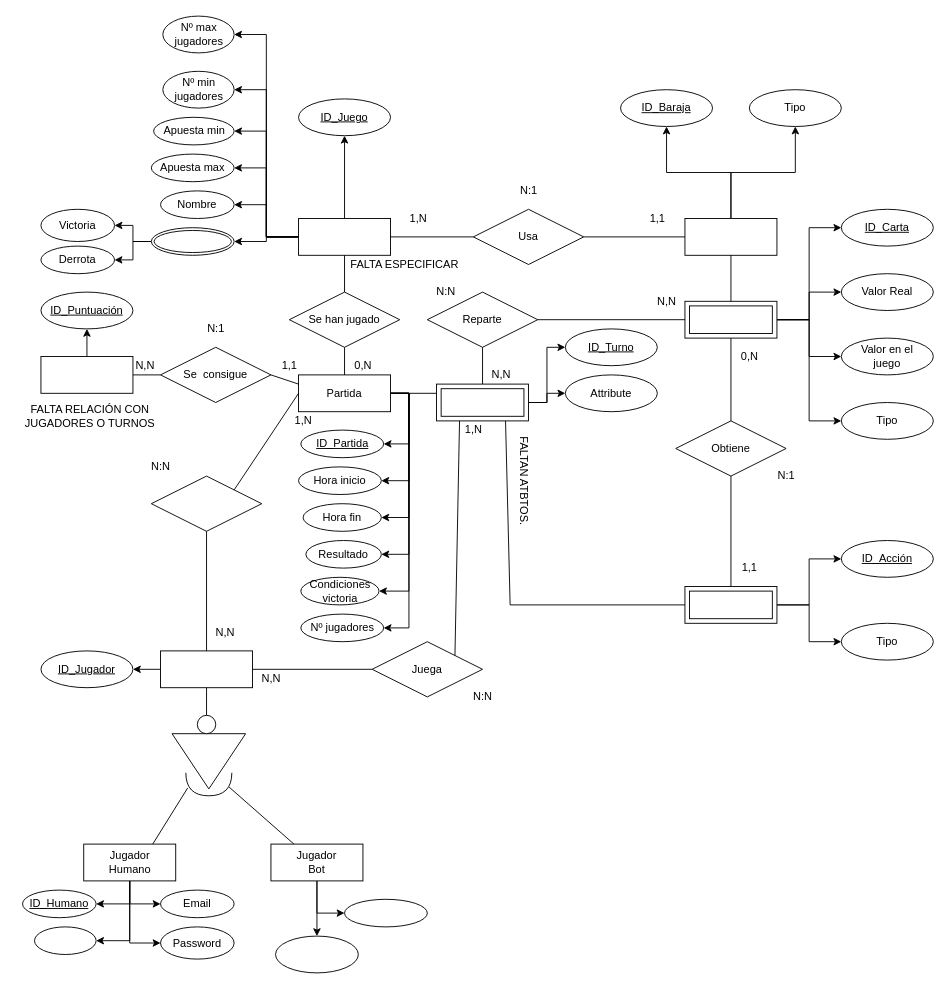
The diagram is 949 pixels wide and 989 high, and some of its shapes have lost their labels. Here are the shapes that lost their labels. From the top down, the centre of each, then its label:
At [192,241]: "Reglas".
At [344,236]: "Juego".
At [730,236]: "Baraja".
At [730,319]: "Cartas".
At [86,374]: "Puntuación".
At [482,402]: "Turnos".
At [206,503]: "Juegan".
At [730,604]: "Acción".
At [206,669]: "Jugadores".
At [385,912]: "Nombre bot".
At [65,940]: "Usuario".
At [316,954]: "ID_Bot".
